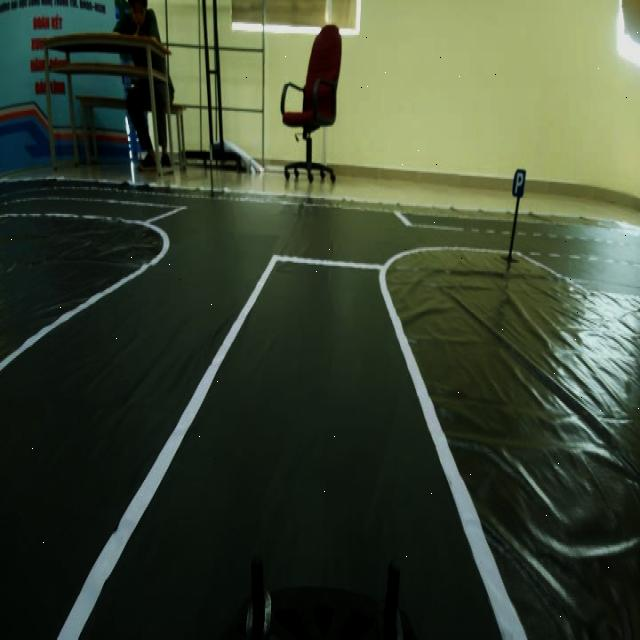parking: (506, 158, 532, 202)
